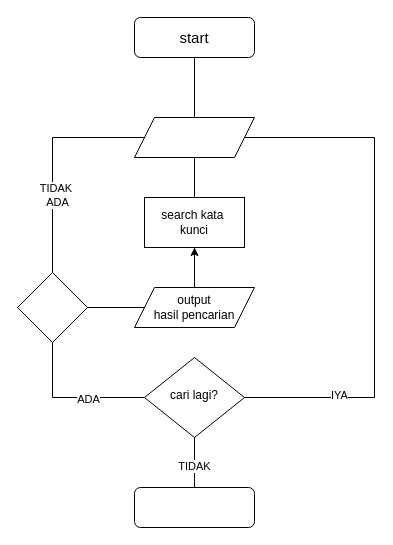
Some shapes in this 393 by 545 pixel diagram are drawn without their labels. Here are the shapes that lost their labels. From the top down, the centre of each, then its label:
At pixel 194 137: "input cari kata kunci".
At pixel 194 507: "finsh".
